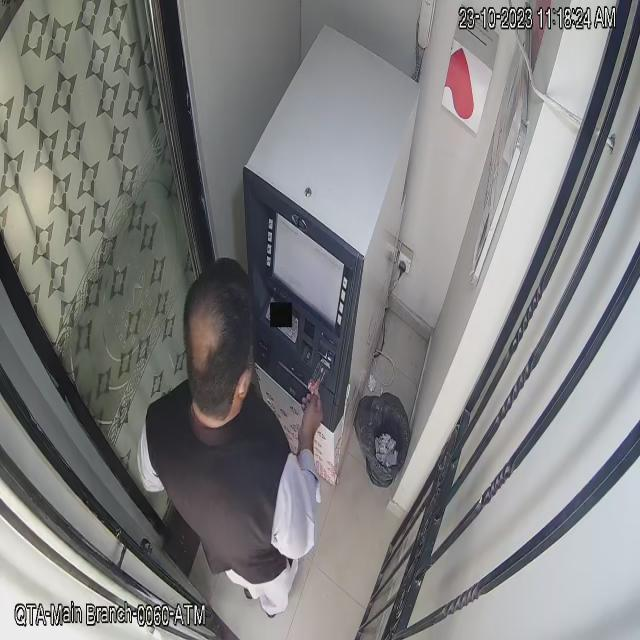atm-card: (303, 357, 333, 404)
